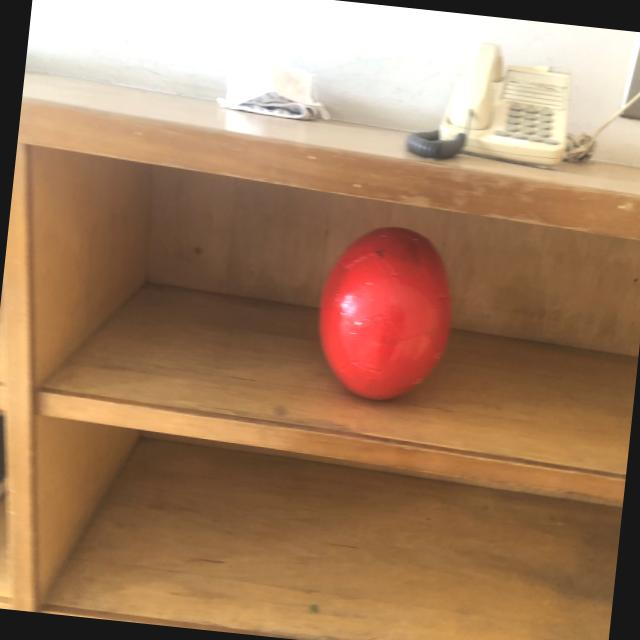red_ball: (312, 219, 462, 406)
